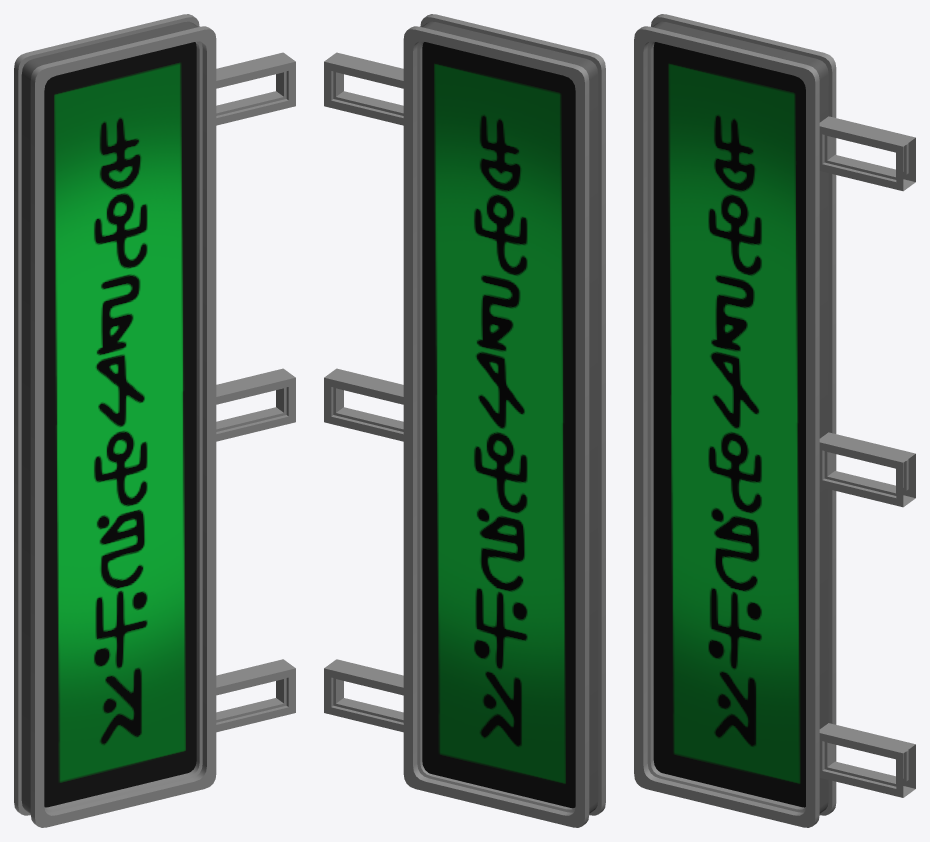
The picture shows the model from 3 angles, left to right: view 1: azimuth 30°, elevation 25°; view 2: azimuth 150°, elevation 25°; view 3: azimuth 330°, elevation 25°; orthographic projection.
Parts seen in each view (by area): view 1: MS_4M_2; view 2: MS_4M_2; view 3: MS_4M_2.
Part boxes in pixels (x1=…): MS_4M_2: x1=14, y1=14, x2=295, y2=827; MS_4M_2: x1=324, y1=14, x2=605, y2=827; MS_4M_2: x1=634, y1=14, x2=915, y2=827.
Bounding box in the file's own units: 146 × 400 × 19.93.
